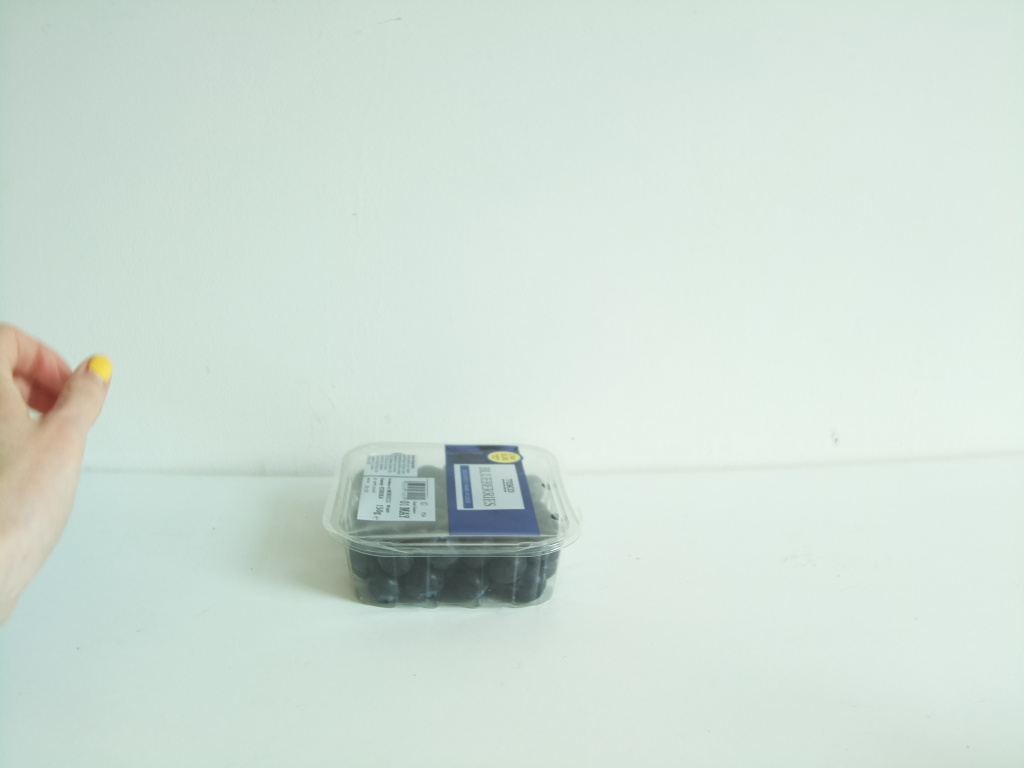soft-fruit: (326, 435, 584, 608)
